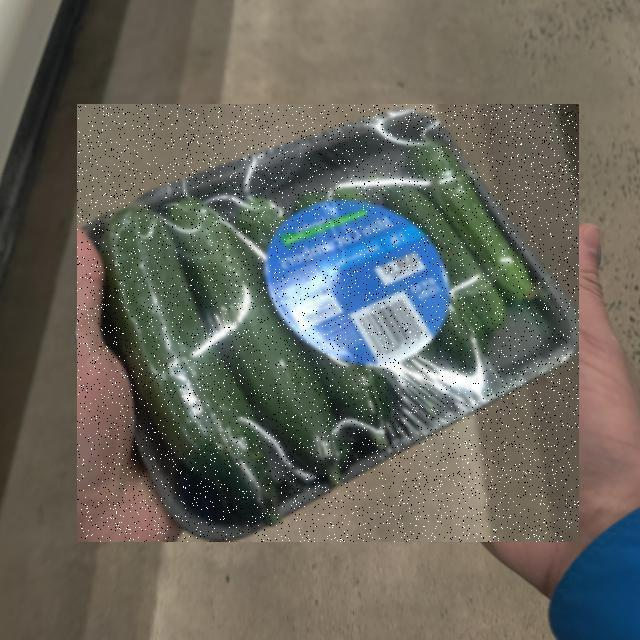Cucumber: (77, 104, 579, 542)
